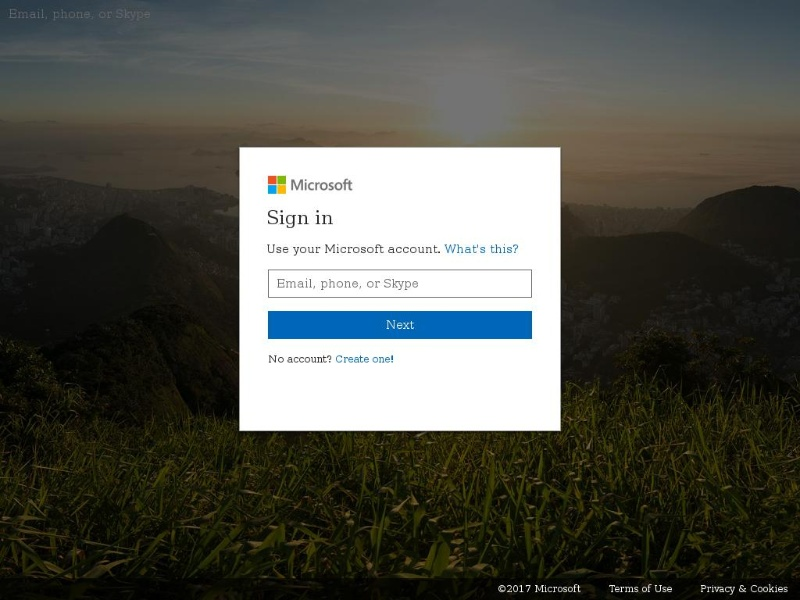msft: (252, 162, 383, 203)
